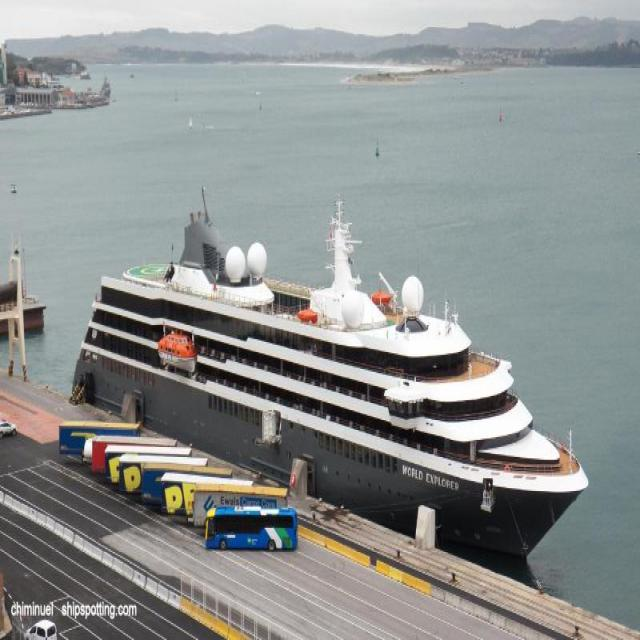cruises: (67, 174, 594, 576)
